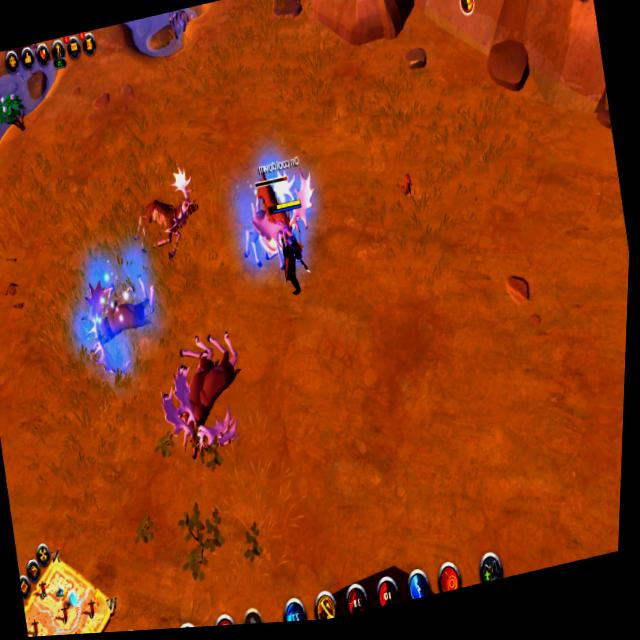hide: (0, 84, 30, 135)
mob: (147, 306, 262, 468), (65, 263, 171, 390), (116, 154, 210, 268)
ore: (247, 153, 301, 241)
red: (265, 195, 319, 302)
